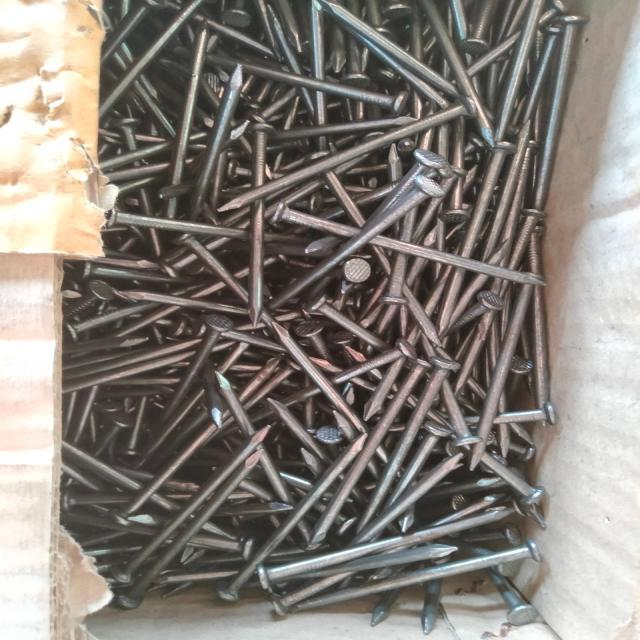3x8 nail: (214, 119, 463, 337), (239, 510, 584, 636), (278, 351, 483, 563)
